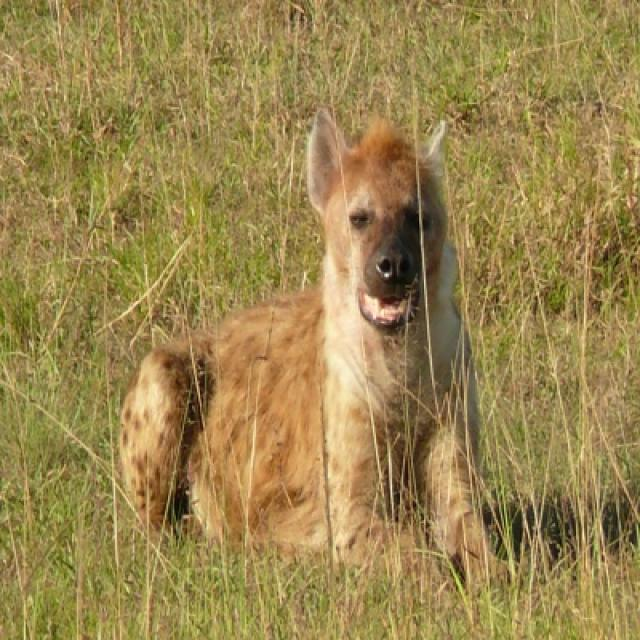hyena: (114, 107, 490, 573)
